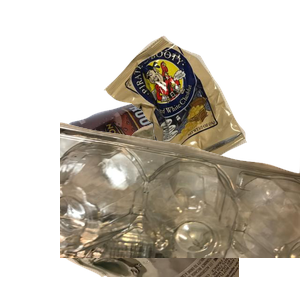glass: (60, 120, 300, 300)
metal: (60, 79, 300, 259)
plastic: (60, 120, 300, 300)
trash: (101, 33, 300, 206)
